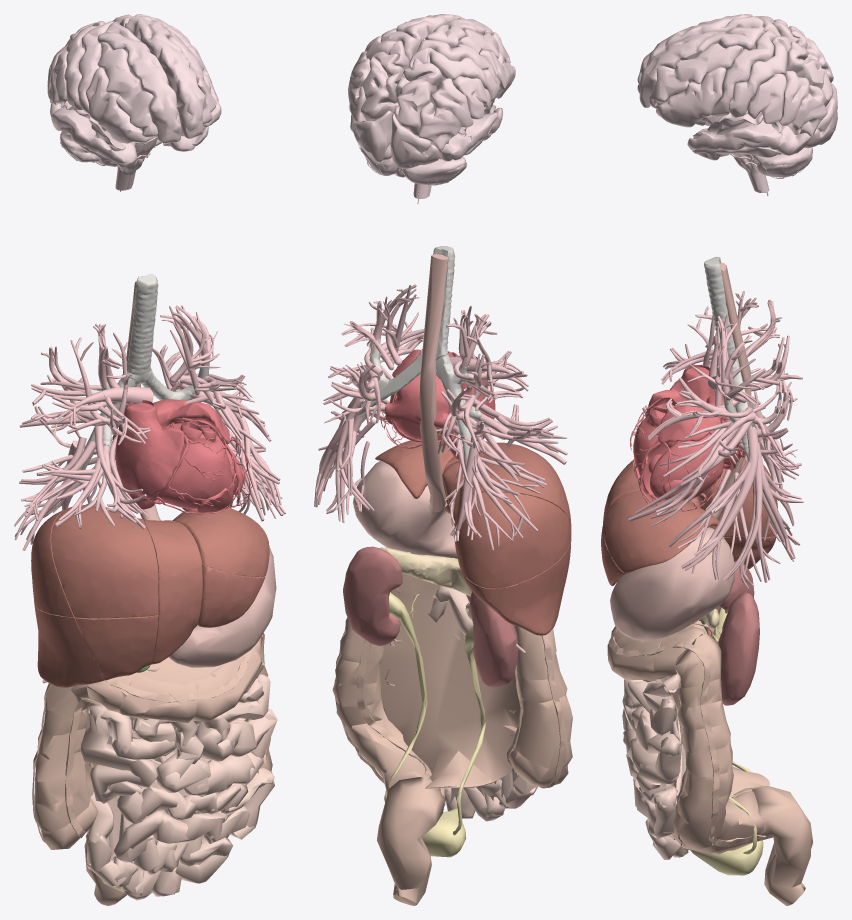
File: organs.glb
3 views of the same model, side by side, from view 1: azimuth 30°, elevation 25°; view 2: azimuth 150°, elevation 25°; view 3: azimuth 270°, elevation 25° (orthographic). The views are drawn at different scales.
Parts seen in each view (by area): view 1: liver, small_intestine, lungs, brain, large_intestine, heart, stomach, trachea; view 2: large_intestine, brain, lungs, liver, kidneys, stomach, esophagus, bladder, small_intestine, trachea, heart, pancreas; view 3: brain, large_intestine, lungs, liver, small_intestine, stomach, heart, kidneys, bladder, trachea, esophagus.
Part boxes in pixels (x1,y1,x2,y2): liver: (31,505,269,687); small_intestine: (81,658,277,900); lungs: (14,305,285,683); brain: (47,14,221,190); large_intestine: (32,633,272,905); heart: (112,399,253,514); stomach: (169,546,276,667); trachea: (82,273,209,469); large_intestine: (332,573,572,905); brain: (348,14,515,198); lungs: (314,284,567,653); liver: (375,440,571,635); kidneys: (343,546,518,687); stomach: (353,460,457,558); esophagus: (419,254,448,512); bladder: (384,592,485,857); small_intestine: (427,586,537,821); trachea: (356,246,481,458); heart: (380,349,495,459); pancreas: (379,547,472,620); brain: (637,14,837,192); large_intestine: (607,619,812,905); lungs: (628,291,803,589); liver: (601,458,777,585); small_intestine: (622,673,688,859); stomach: (610,527,734,640); heart: (630,364,745,511); kidneys: (706,561,759,705); bladder: (690,607,763,875); trachea: (704,257,757,459); esophagus: (709,262,751,527).
Size of the model in its own units: 0.2499 by 0.8731 by 0.2127.
